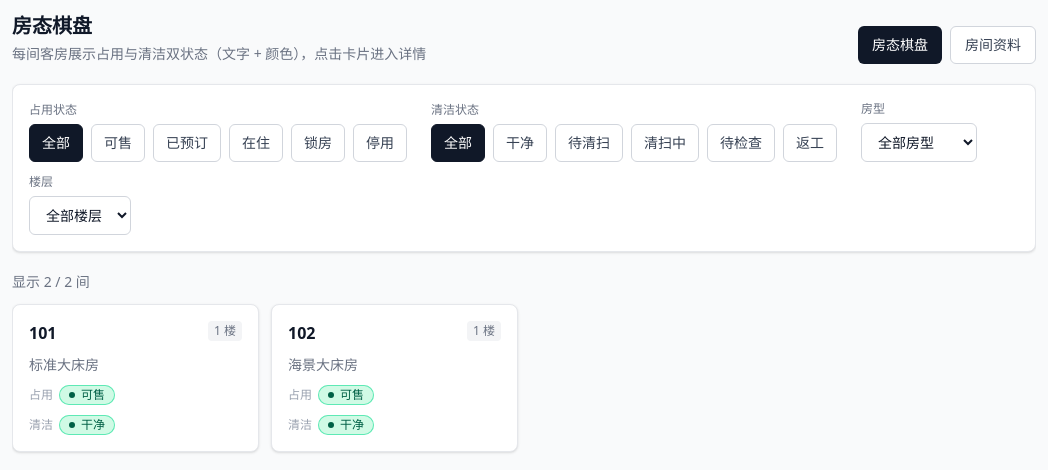
Test: RoomsManagementView（alpha.9.6 F1） › room:inventory_manage + room:delete：才显示删除按钮
Click the tab "房间资料": (993, 45) [950, 26, 1036, 64]
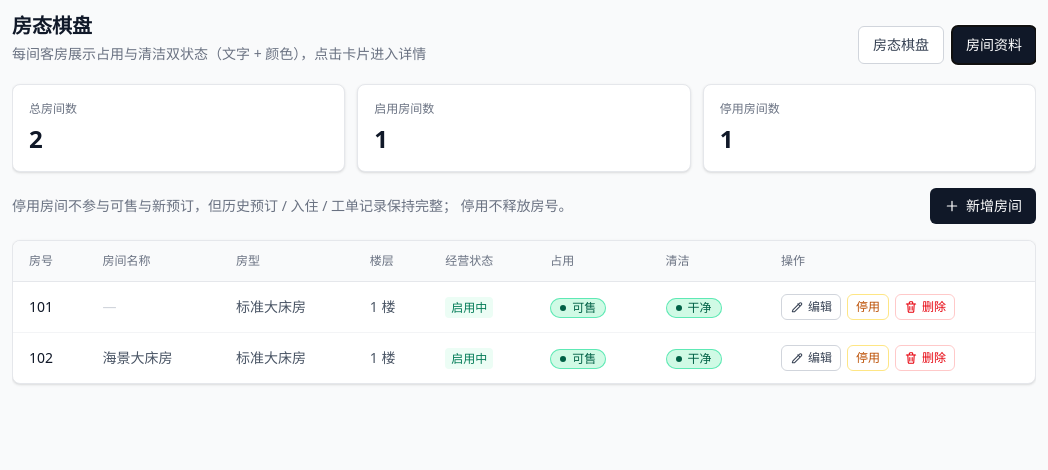
Check: the button "删除" in the row of "101" is shown, box [895, 294, 955, 320]
